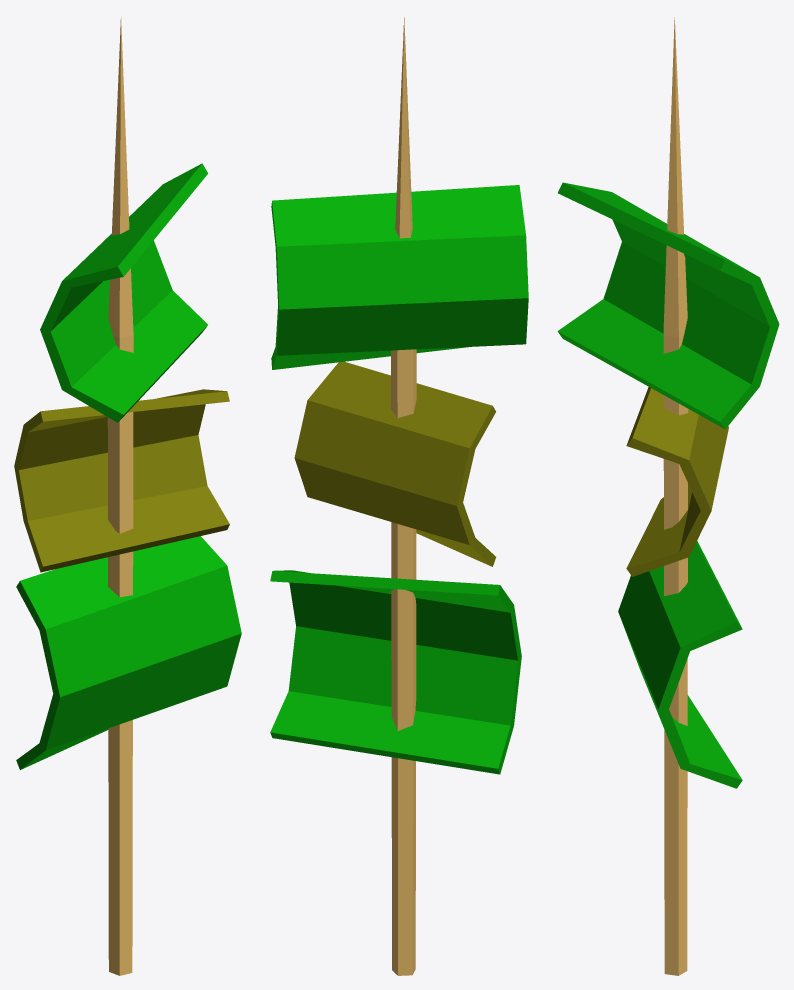
File: PepperStick.fbx
3 views of the same model, side by side, from view 1: azimuth 30°, elevation 25°; view 2: azimuth 150°, elevation 25°; view 3: azimuth 270°, elevation 25° (orthographic).
Parts seen in each view (by area): view 1: GreenStick; view 2: GreenStick; view 3: GreenStick.
Boxes of the visible parts, left/top/right/bottom form: GreenStick: left=14, top=17, right=241, bottom=975; GreenStick: left=270, top=17, right=528, bottom=975; GreenStick: left=557, top=17, right=779, bottom=975.
Bounding box in the file's own units: 69.92 × 297 × 62.43.
